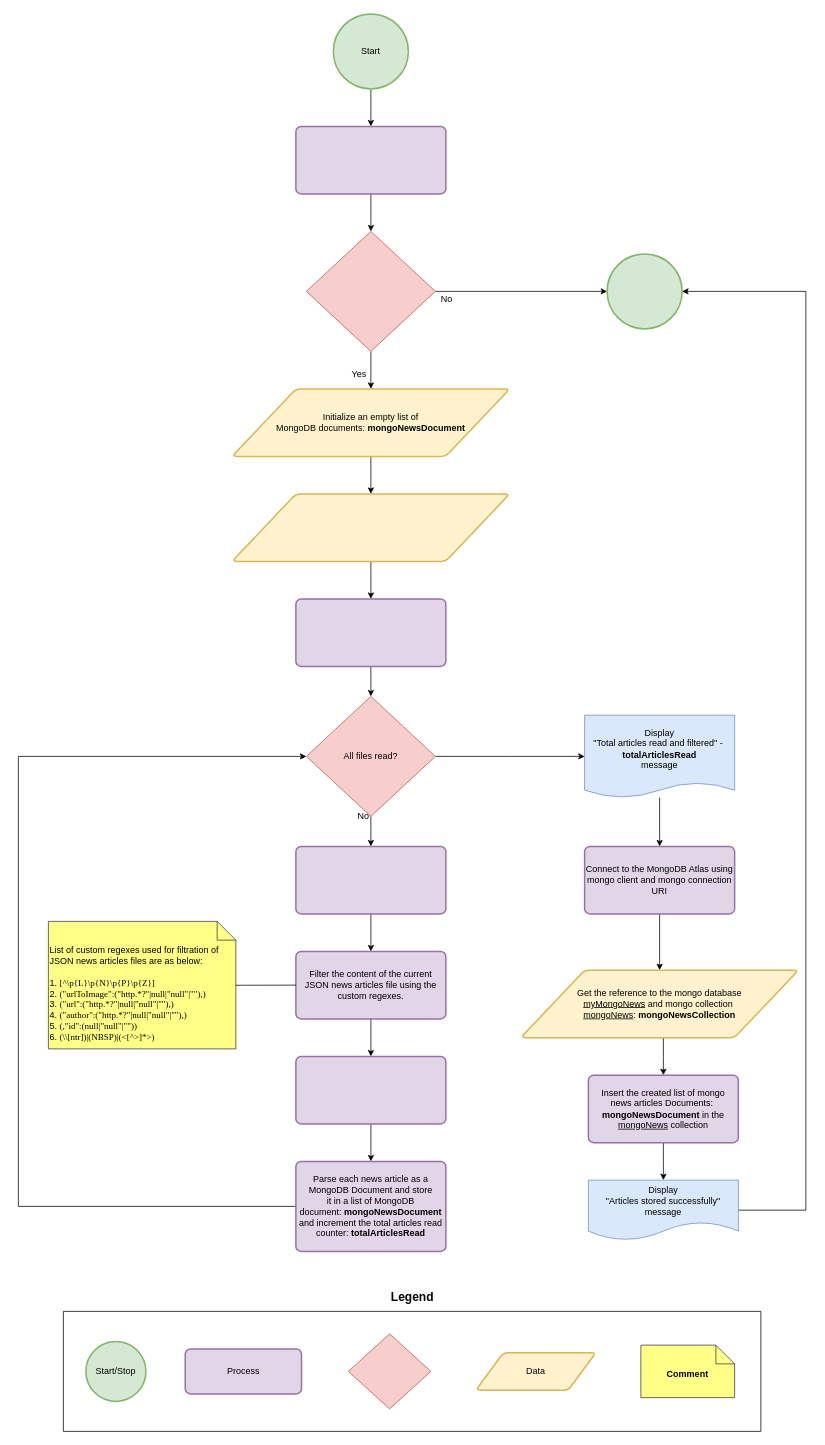
The diagram is 825 pixels wide and 1445 high, and some of its shapes have lost their labels. The centre of each missing label's shape, as x and y in pixels:
Are there are any files read?: the point at 370,291
Decision: the point at 389,1371
Initialize a counter variable to count total articles read: totalArticlesRead: the point at 370,527
Iterate through all the JSON news articles file names: the point at 370,632
Read name of all extracted JSON news articles files: the point at 370,159
Read the content of the current JSON news articles file: the point at 370,879
Split the filtered JSON news articles file content into separate news articles: the point at 370,1089
Stop: the point at 644,291
